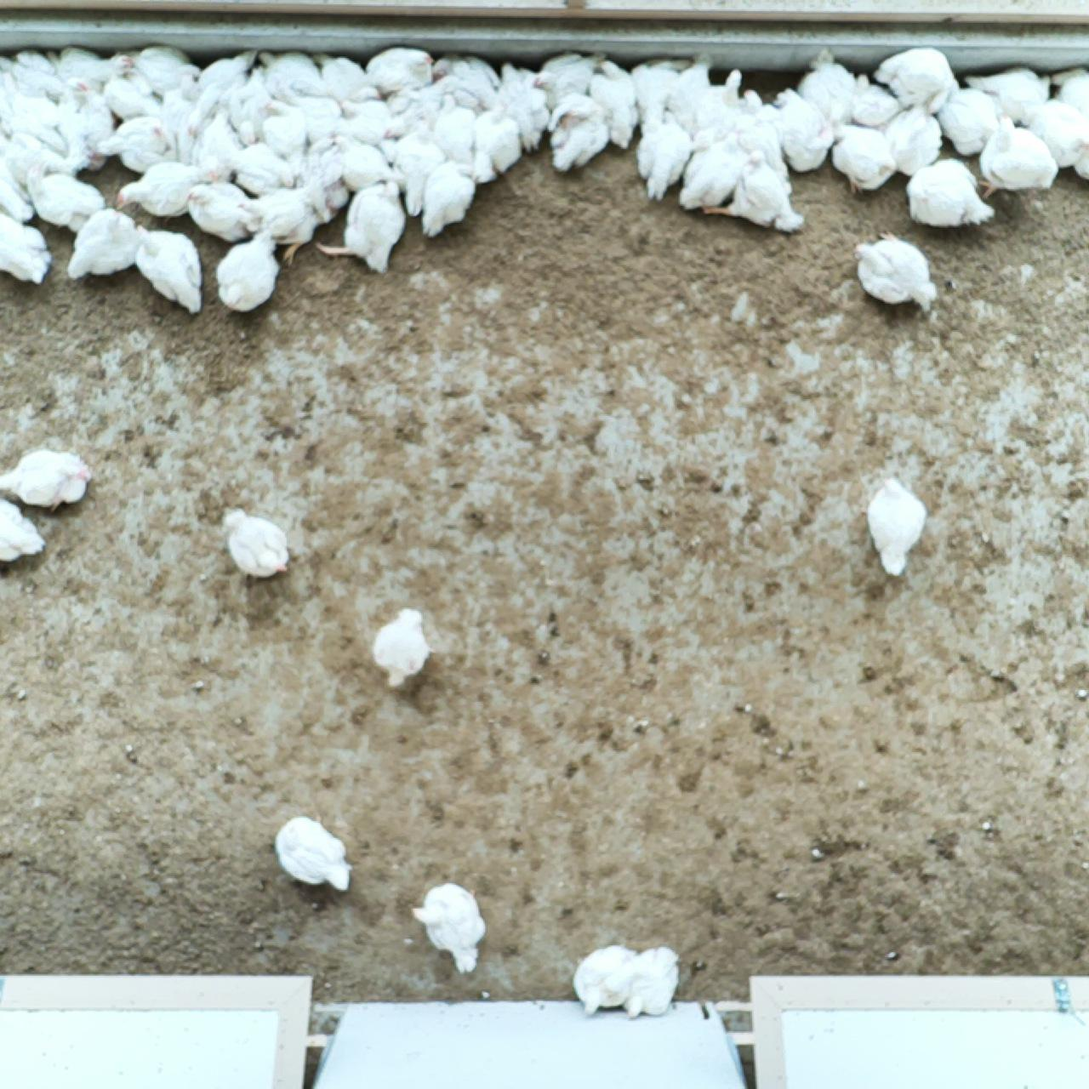chicken: (315, 174, 411, 271), (703, 154, 810, 234), (965, 113, 1059, 198), (405, 878, 487, 973), (0, 91, 90, 174), (862, 473, 929, 582), (849, 228, 938, 309), (234, 182, 322, 263), (132, 220, 206, 315), (903, 155, 995, 229), (24, 155, 109, 231), (928, 86, 1019, 156), (0, 447, 95, 514), (677, 128, 750, 215), (64, 207, 144, 286), (184, 48, 256, 135), (272, 816, 350, 894), (391, 112, 450, 215), (0, 43, 88, 112), (966, 64, 1057, 130), (769, 85, 836, 173), (215, 224, 279, 316), (94, 111, 185, 175), (584, 58, 644, 154), (628, 55, 690, 147), (371, 602, 435, 691), (873, 47, 959, 113), (500, 61, 557, 159), (114, 159, 203, 221), (417, 157, 481, 243), (220, 504, 292, 580), (381, 73, 460, 141), (183, 178, 266, 241), (790, 51, 857, 129), (97, 51, 165, 127), (632, 108, 688, 200), (829, 122, 899, 195), (620, 946, 686, 1022), (225, 63, 283, 147), (878, 98, 942, 174), (544, 98, 608, 174), (733, 87, 792, 169), (571, 943, 637, 1016), (1027, 99, 1089, 174), (331, 132, 403, 196), (471, 102, 526, 183), (0, 491, 57, 569), (46, 44, 136, 93), (191, 108, 244, 190), (0, 206, 54, 286), (432, 49, 504, 108), (542, 48, 610, 109), (663, 54, 719, 127), (221, 139, 295, 193), (291, 129, 354, 192), (125, 43, 194, 100), (245, 46, 319, 99), (277, 82, 341, 143), (690, 68, 741, 142), (843, 69, 905, 129), (430, 87, 477, 164), (74, 83, 114, 172), (157, 61, 206, 131), (364, 46, 431, 97), (315, 49, 381, 98), (330, 93, 394, 140), (259, 96, 305, 157), (1045, 64, 1089, 117), (0, 148, 31, 218)
